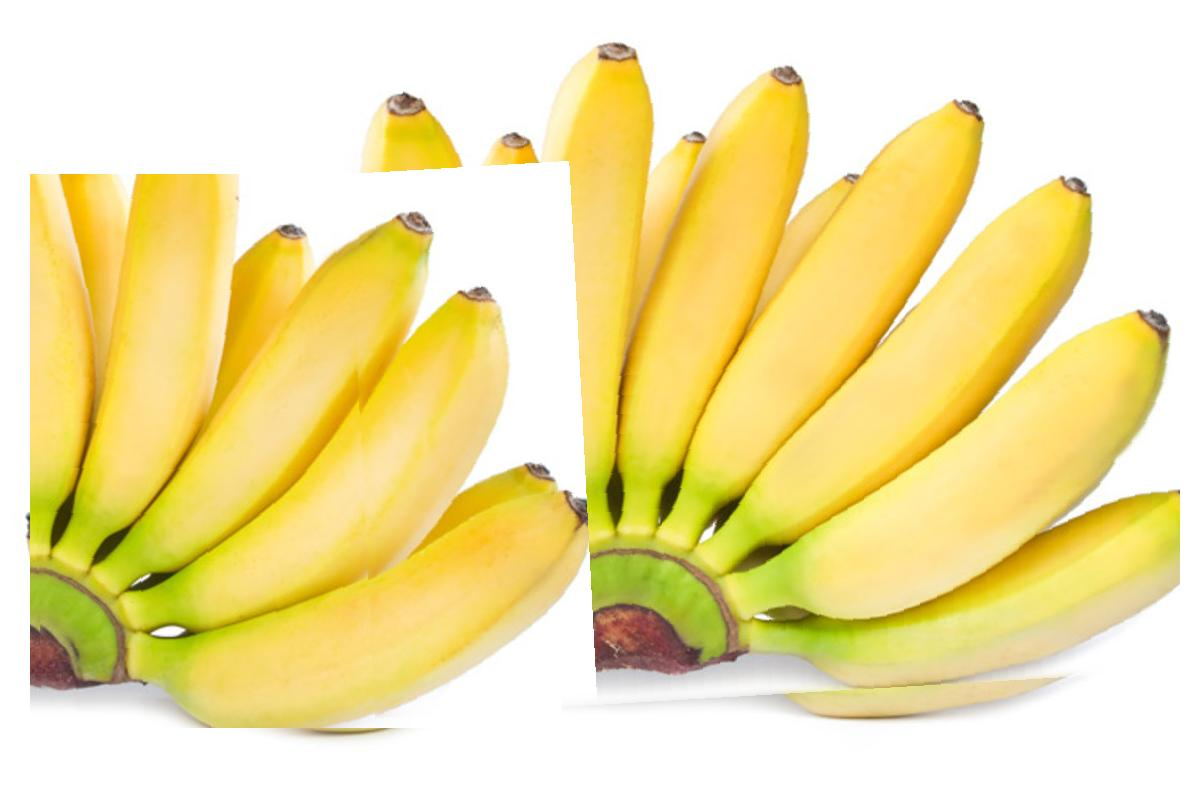Banana Fresh: (340, 34, 1180, 718), (30, 174, 562, 728)
